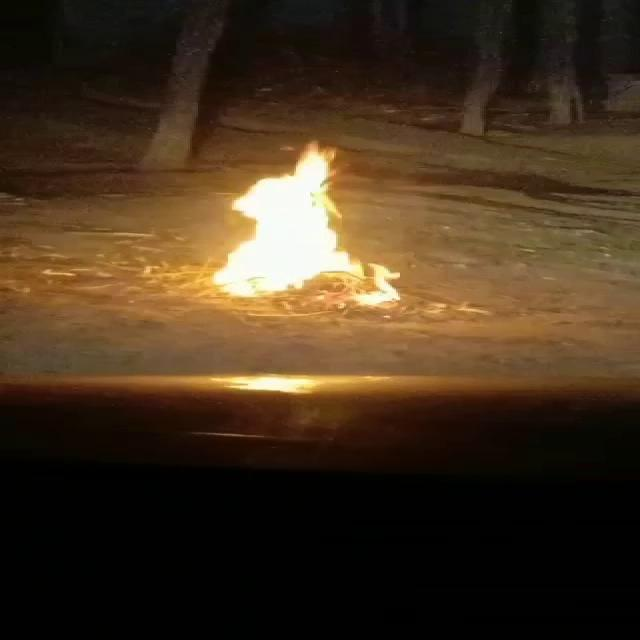Fire: (212, 142, 370, 298)
